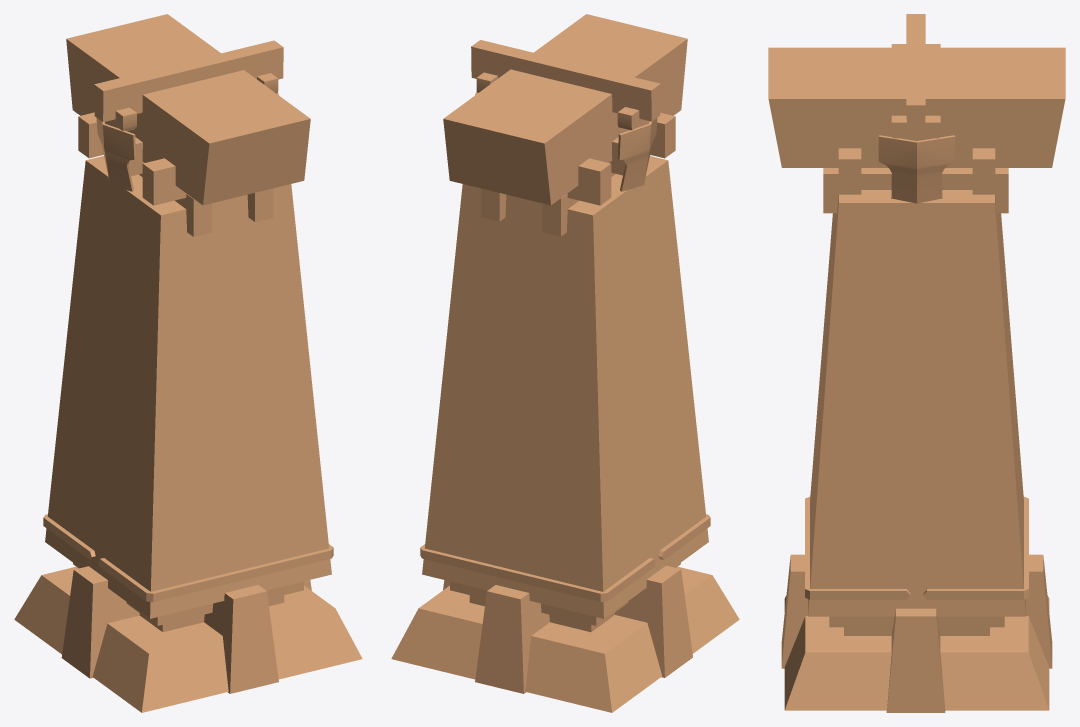
The model's file is SM_S_Pillar_01.fbx.
The picture shows the model from 3 angles, left to right: view 1: azimuth 30°, elevation 25°; view 2: azimuth 150°, elevation 25°; view 3: azimuth 270°, elevation 25°; orthographic projection. The views are drawn at different scales.
Visible parts, largest first — view 1: SM_S_Pillar_01_low; view 2: SM_S_Pillar_01_low; view 3: SM_S_Pillar_01_low.
Boxes of the visible parts, x1,y1,x2,y2 form: SM_S_Pillar_01_low: (14, 14, 362, 712); SM_S_Pillar_01_low: (391, 14, 739, 712); SM_S_Pillar_01_low: (768, 14, 1065, 712).
Size of the model in its own units: 1.58 by 3.5 by 1.44.
